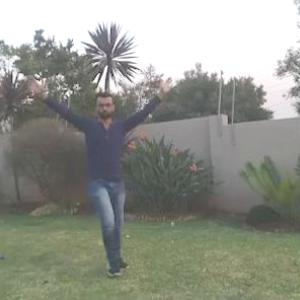takeoff: (27, 74, 172, 281)
